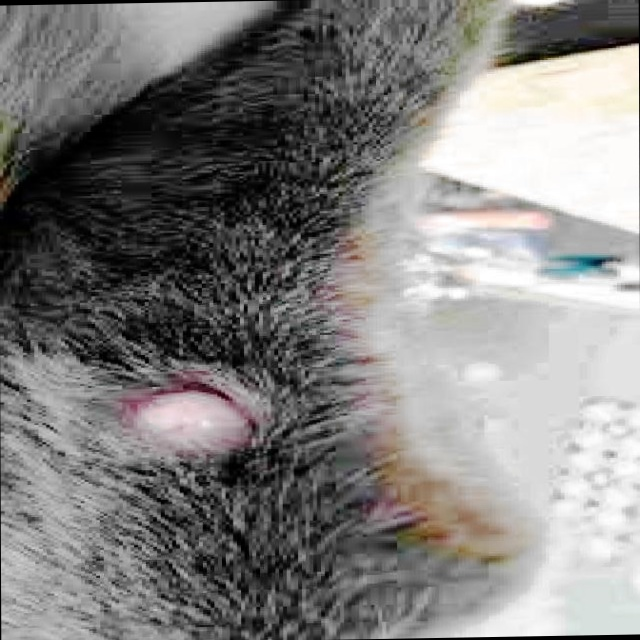lump_and_bump: (121, 374, 265, 458)
